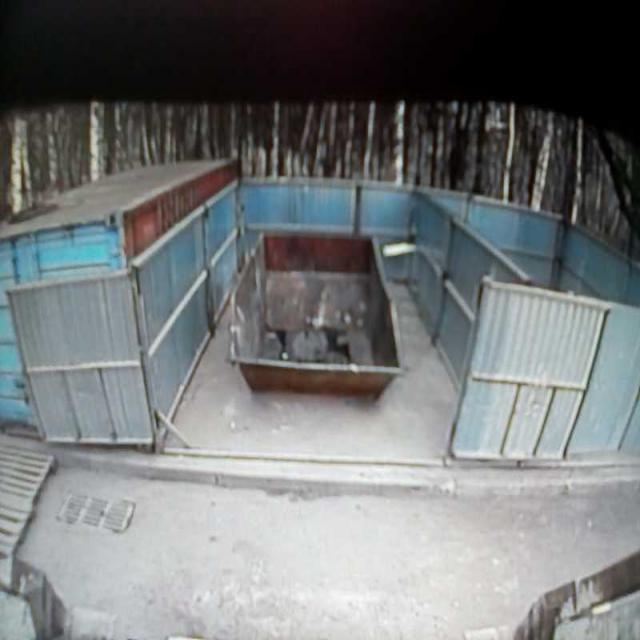Dumpster: (231, 227, 404, 398)
